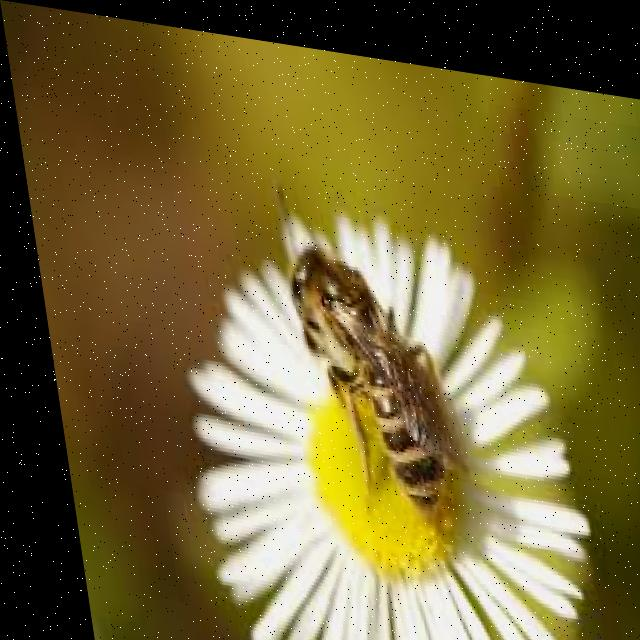Seladonia: (262, 187, 480, 512)
